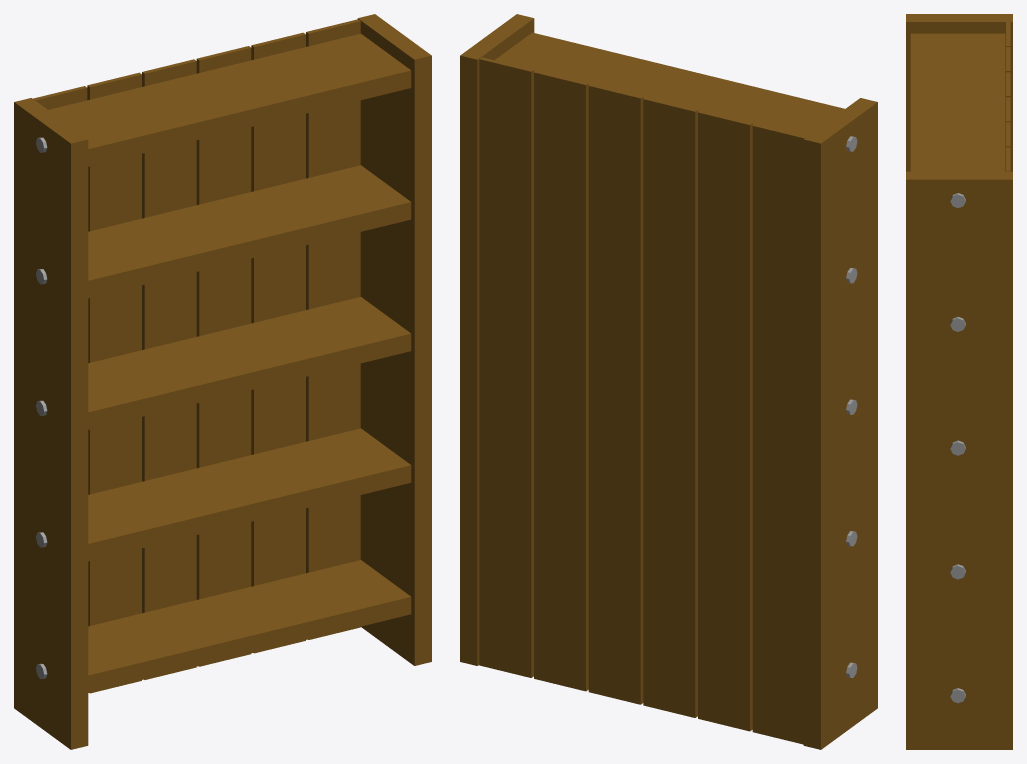
The model's file is estanteria.fbx.
3 views of the same model, side by side, from view 1: azimuth 30°, elevation 25°; view 2: azimuth 150°, elevation 25°; view 3: azimuth 270°, elevation 25° (orthographic). The views are drawn at different scales.
Visible parts, largest first — view 1: Cube.002, Cube.001, Cube; view 2: Cube, Cube.001, Cube.002; view 3: Cube.001, Cube.002, Cube.
Part boxes in pixels (box(x1,y1,x2,y2)): Cube.002: box(36, 33, 411, 692); Cube.001: box(14, 14, 431, 749); Cube: box(33, 19, 360, 693); Cube: box(479, 57, 806, 744); Cube.001: box(460, 14, 877, 749); Cube.002: box(495, 32, 857, 677); Cube.001: box(906, 14, 1012, 749); Cube.002: box(910, 33, 1005, 703); Cube: box(1006, 22, 1010, 171).
Bounding box in the file's own units: 199 × 313 × 53.12.
